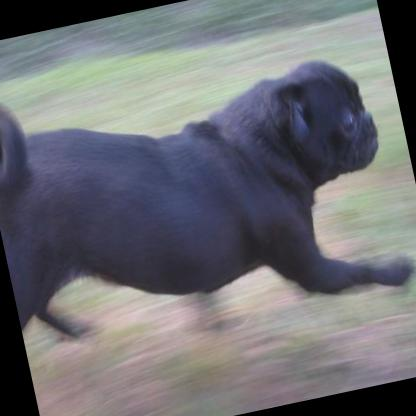pug: (0, 22, 416, 367)
